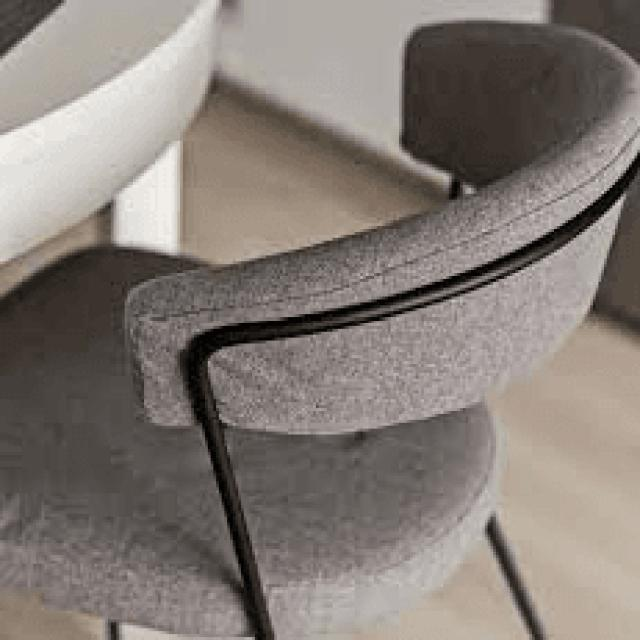chair: (0, 16, 640, 640), (70, 13, 620, 563)
